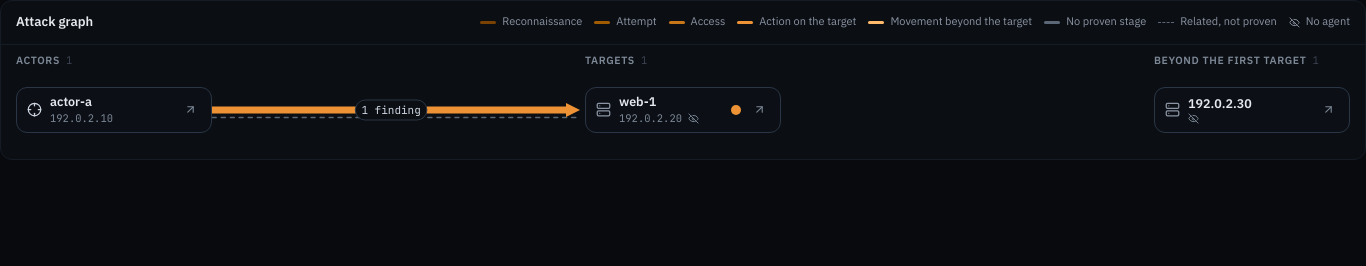
Test: AttackGraph › states the investigations of a machine in its tooltip when the server sends no events
Focus the button with aria-label "web-1: show its alerts" at x=660, y=110, box [596,94,723,125]
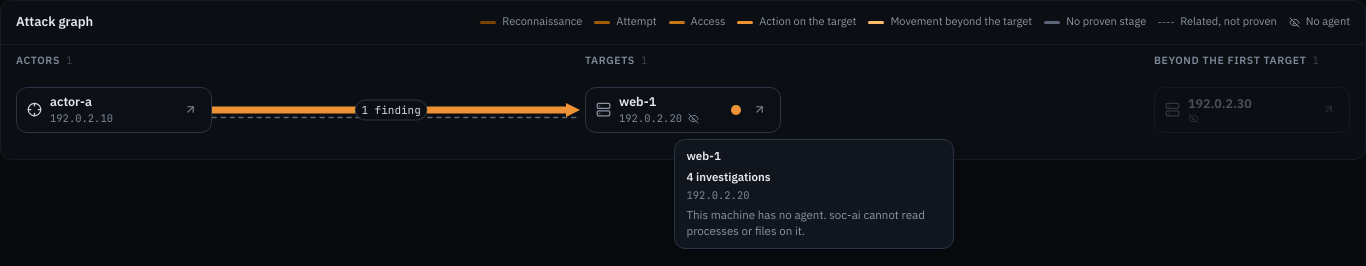
expect the text with test id "node-tip-count" reads "4 investigations": met, box [686,169,770,184]
